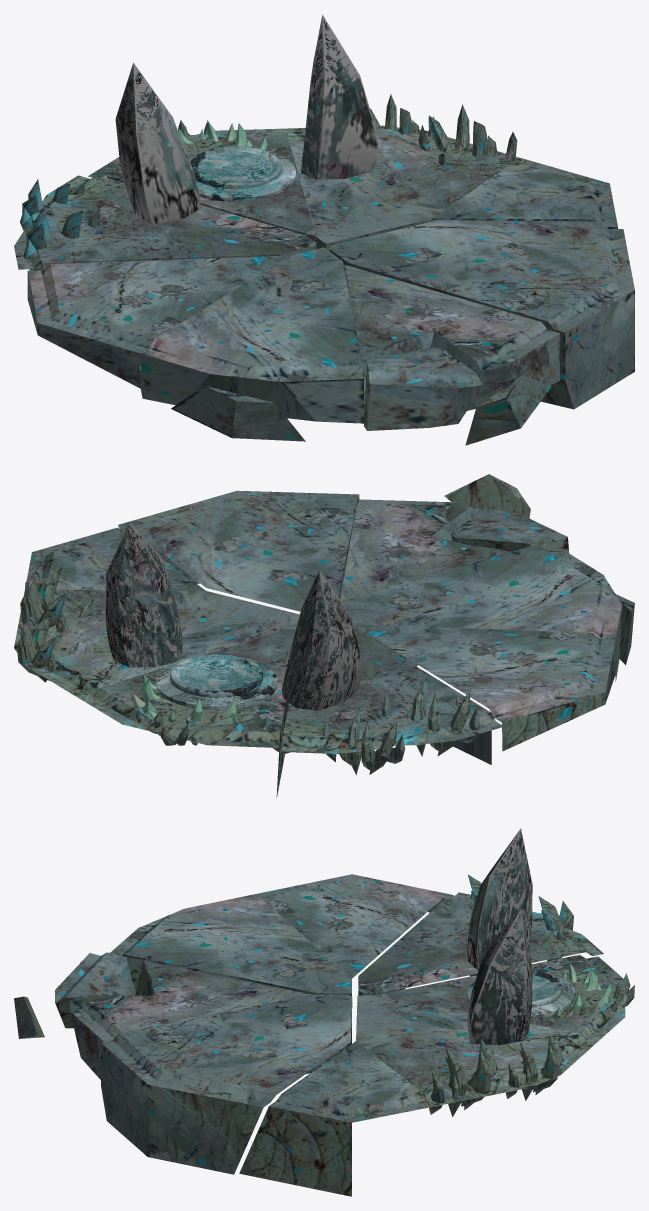
Rendered from Tutorial_Map.fbx.
The picture shows the model from 3 angles, top to bottom: view 1: azimuth 30°, elevation 25°; view 2: azimuth 150°, elevation 25°; view 3: azimuth 270°, elevation 25°; orthographic projection. The views are drawn at different scales.
Visible parts, largest first — view 1: Stage_tuto, Stalac_Biga, Stalac_Bigb, Stage_portal, Cube.002, Cube.010; view 2: Stage_tuto, Stalac_Bigb, Stalac_Biga, Cube.010, Stage_portal, Cube.002; view 3: Stage_tuto, Stalac_Bigb, Stalac_Biga, Cube.010, Cube.002, Stage_portal.
Boxes of the visible parts, left/top/right/bottom form: Stage_tuto: left=14, top=125, right=634, bottom=445; Stalac_Biga: left=115, top=63, right=200, bottom=224; Stalac_Bigb: left=301, top=14, right=378, bottom=179; Stage_portal: left=188, top=146, right=295, bottom=201; Cube.002: left=23, top=104, right=517, bottom=270; Cube.010: left=20, top=94, right=434, bottom=230; Stage_tuto: left=14, top=474, right=634, bottom=797; Stalac_Bigb: left=105, top=522, right=182, bottom=667; Stalac_Biga: left=272, top=570, right=362, bottom=753; Cube.010: left=17, top=614, right=405, bottom=774; Stage_portal: left=155, top=654, right=277, bottom=709; Cube.002: left=20, top=566, right=479, bottom=756; Stage_tuto: left=14, top=874, right=627, bottom=1196; Stalac_Bigb: left=467, top=909, right=532, bottom=1045; Stalac_Biga: left=467, top=828, right=532, bottom=976; Cube.010: left=506, top=896, right=634, bottom=1100; Cube.002: left=429, top=874, right=497, bottom=1116; Stage_portal: left=467, top=970, right=575, bottom=1018.
Size of the model in its own units: 5072 by 1948 by 5357.
